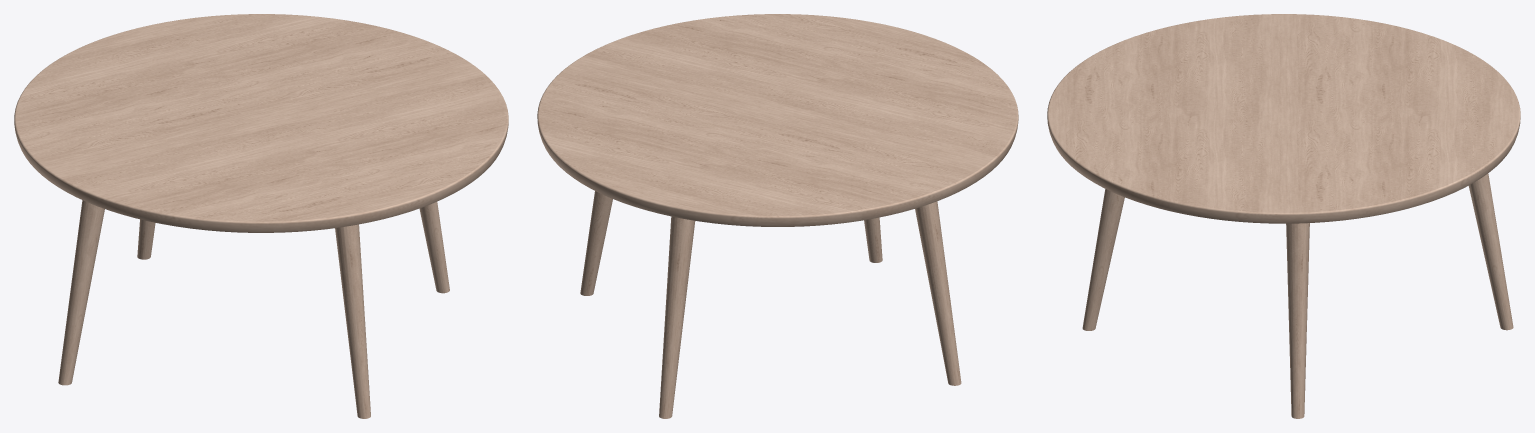
File: roundoak_coffeetable.gltf
The picture shows the model from 3 angles, left to right: view 1: azimuth 30°, elevation 25°; view 2: azimuth 150°, elevation 25°; view 3: azimuth 270°, elevation 25°; orthographic projection. The views are drawn at different scales.
Parts seen in each view (by area): view 1: roundoak; view 2: roundoak; view 3: roundoak.
Boxes of the visible parts, <box> form: roundoak: <box>14,14,508,418</box>; roundoak: <box>537,14,1018,418</box>; roundoak: <box>1047,14,1520,418</box>.
Size of the model in its own units: 0.9006 by 0.45 by 0.9006.
Materials: 1 (1 with a texture image).
